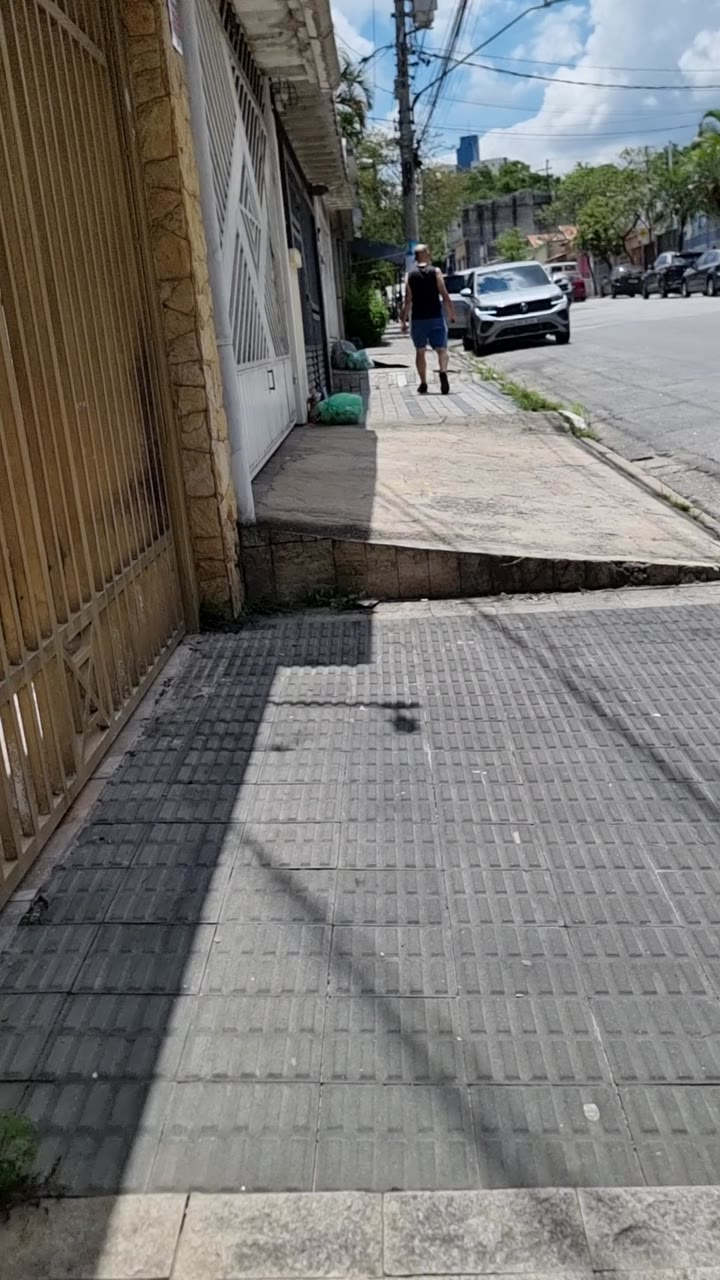desnivel: (238, 512, 720, 602)
obstaculo: (315, 392, 362, 425)
